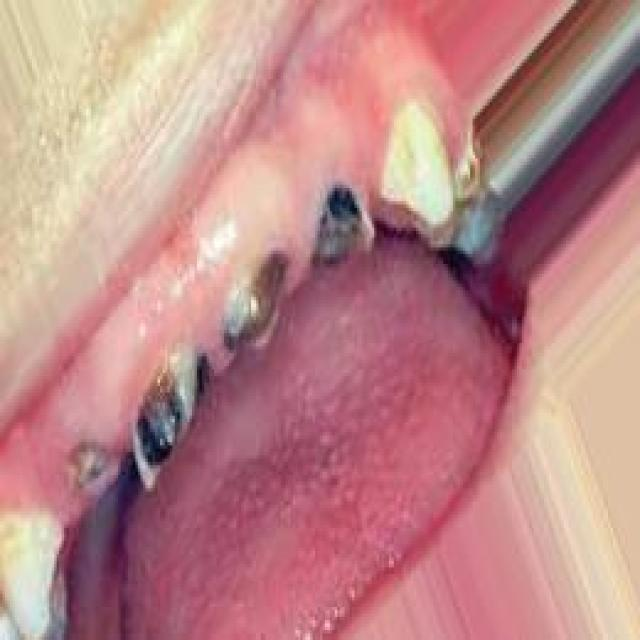caries: (120, 346, 205, 496), (212, 240, 295, 360), (301, 168, 378, 280), (66, 431, 122, 516)
